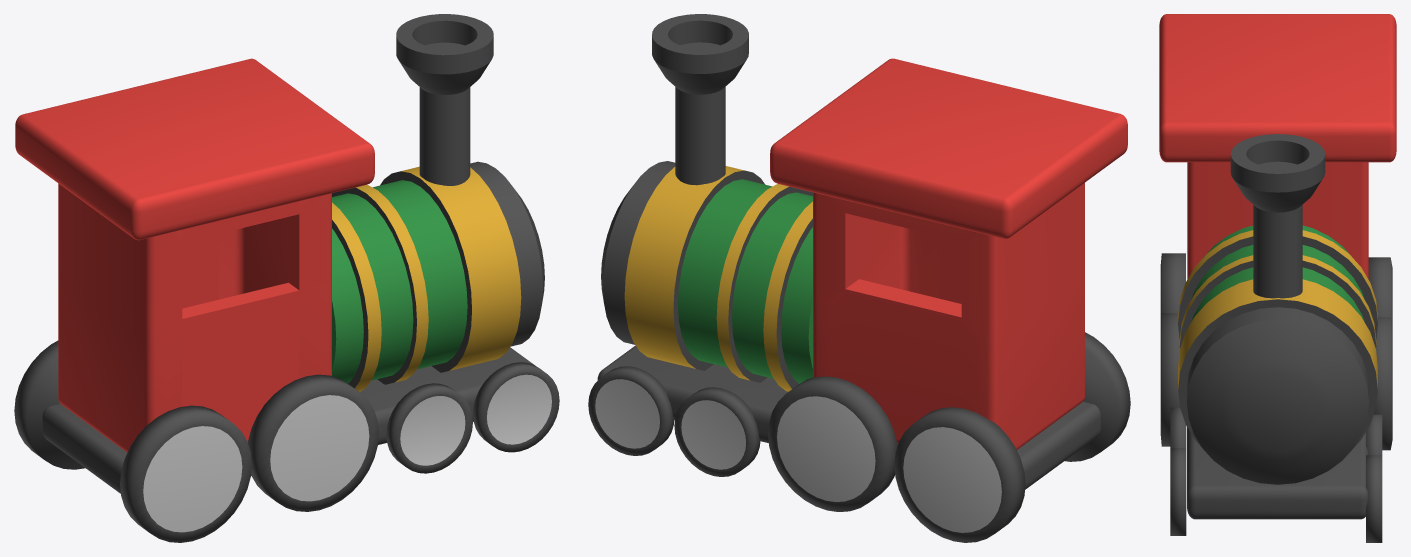
Rendered from Loco.glb.
3 views of the same model, side by side, from view 1: azimuth 30°, elevation 25°; view 2: azimuth 150°, elevation 25°; view 3: azimuth 270°, elevation 25° (orthographic). The views are drawn at different scales.
Parts seen in each view (by area): view 1: Cube.004, Cylinder, Circle.005, Circle.004, Cylinder.001, Cube.002, Circle.007, Circle.006, Circle.001; view 2: Cube.004, Cylinder, Circle.001, Circle, Cylinder.001, Cube.002, Circle.003, Circle.002, Circle.005; view 3: Cube.004, Cylinder, Cylinder.001, Cube.002, Circle.004, Circle, Circle.006, Circle.002, Circle.005, Circle.001, Circle.007, Circle.003.
Part boxes in pixels (box(x1,y1,x2,y2)): Cube.004: box(15, 58, 374, 452); Cylinder: box(332, 161, 544, 391); Circle.005: box(120, 405, 251, 542); Circle.004: box(248, 374, 378, 511); Cylinder.001: box(396, 14, 493, 185); Cube.002: box(42, 347, 535, 493); Circle.007: box(386, 383, 472, 473); Circle.006: box(473, 362, 559, 452); Circle.001: box(14, 340, 85, 469); Cube.004: box(770, 58, 1127, 449); Cylinder: box(601, 161, 812, 391); Circle.001: box(894, 407, 1025, 542); Circle: box(768, 376, 897, 511); Cylinder.001: box(652, 14, 748, 185); Cube.002: box(597, 345, 1100, 489); Circle.003: box(674, 387, 760, 476); Circle.002: box(588, 366, 674, 455); Circle.005: box(1065, 332, 1130, 461); Cube.004: box(1159, 14, 1396, 279); Cylinder: box(1178, 225, 1377, 484); Cylinder.001: box(1230, 134, 1325, 298); Cube.002: box(1187, 427, 1368, 519); Circle.004: box(1160, 313, 1179, 446); Circle: box(1373, 317, 1392, 450); Circle.006: box(1170, 448, 1186, 535); Circle.002: box(1366, 455, 1382, 542); Circle.005: box(1160, 253, 1185, 323); Circle.001: box(1368, 257, 1392, 326); Circle.007: box(1170, 407, 1186, 448); Circle.003: box(1366, 414, 1382, 455).
Size of the model in its own units: 0.6785 by 0.5683 by 0.3231.
